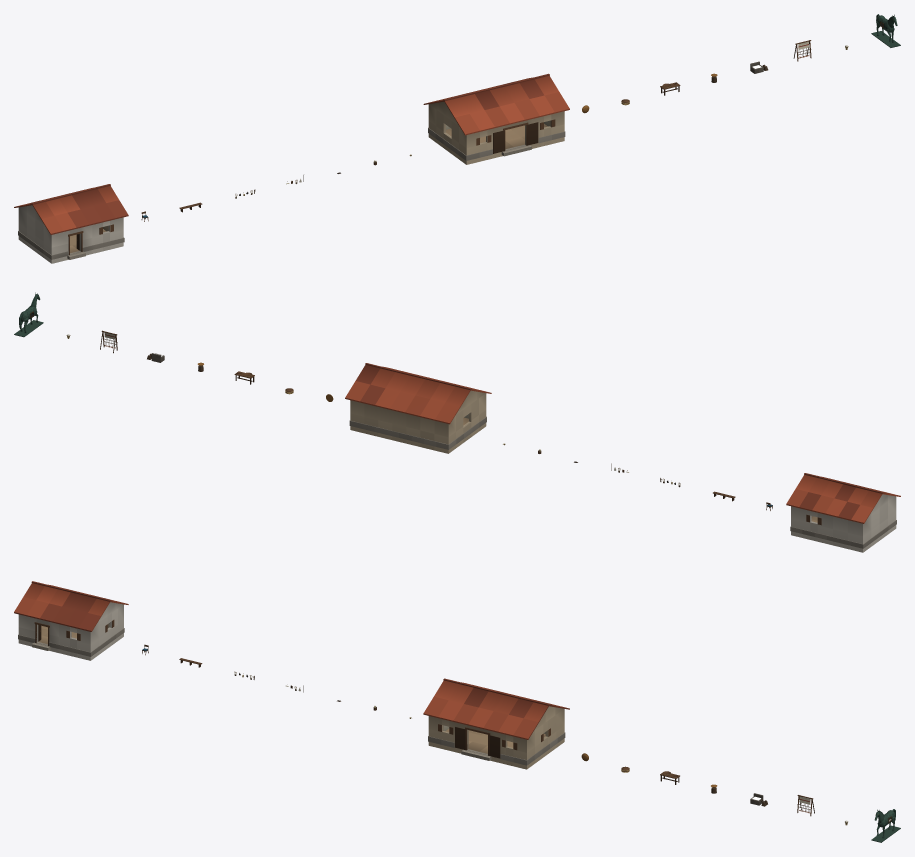
File: kit_extra.glb
The picture shows the model from 3 angles, top to bottom: view 1: azimuth 30°, elevation 25°; view 2: azimuth 150°, elevation 25°; view 3: azimuth 330°, elevation 25°; orthographic projection.
Parts seen in each view (by area): view 1: workshop, school, bronze_steed; view 2: workshop, school, bronze_steed; view 3: workshop, school, bronze_steed.
Part boxes in pixels (x1,y1,x2,y2): workshop: (423, 73, 569, 164); school: (14, 184, 128, 263); bronze_steed: (871, 14, 900, 47); workshop: (345, 363, 491, 453); school: (786, 473, 900, 552); bronze_steed: (14, 292, 43, 337); workshop: (423, 678, 569, 769); school: (14, 581, 128, 660); bronze_steed: (871, 809, 900, 842).
Bounding box in the file's own units: 105 × 6.1 × 8.91.
